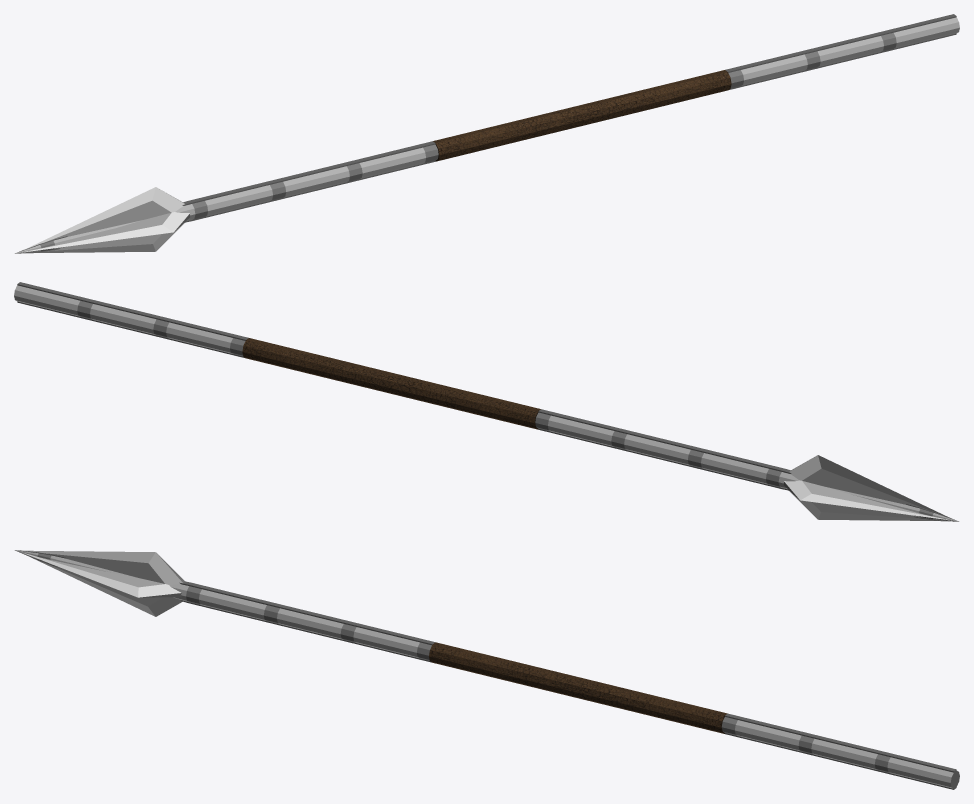
Rendered from RebarSpear.fbx.
3 renders of one model, top to bottom at view 1: azimuth 30°, elevation 25°; view 2: azimuth 150°, elevation 25°; view 3: azimuth 330°, elevation 25°, orthographic.
Visible parts, largest first — view 1: ZomboidRebarSpear; view 2: ZomboidRebarSpear; view 3: ZomboidRebarSpear.
Part boxes in pixels (box(x1,y1,x2,y2)): ZomboidRebarSpear: box(14, 14, 959, 253); ZomboidRebarSpear: box(14, 282, 959, 521); ZomboidRebarSpear: box(14, 550, 959, 789).
Size of the model in its own units: 0.9111 by 0.06 by 0.0597.
